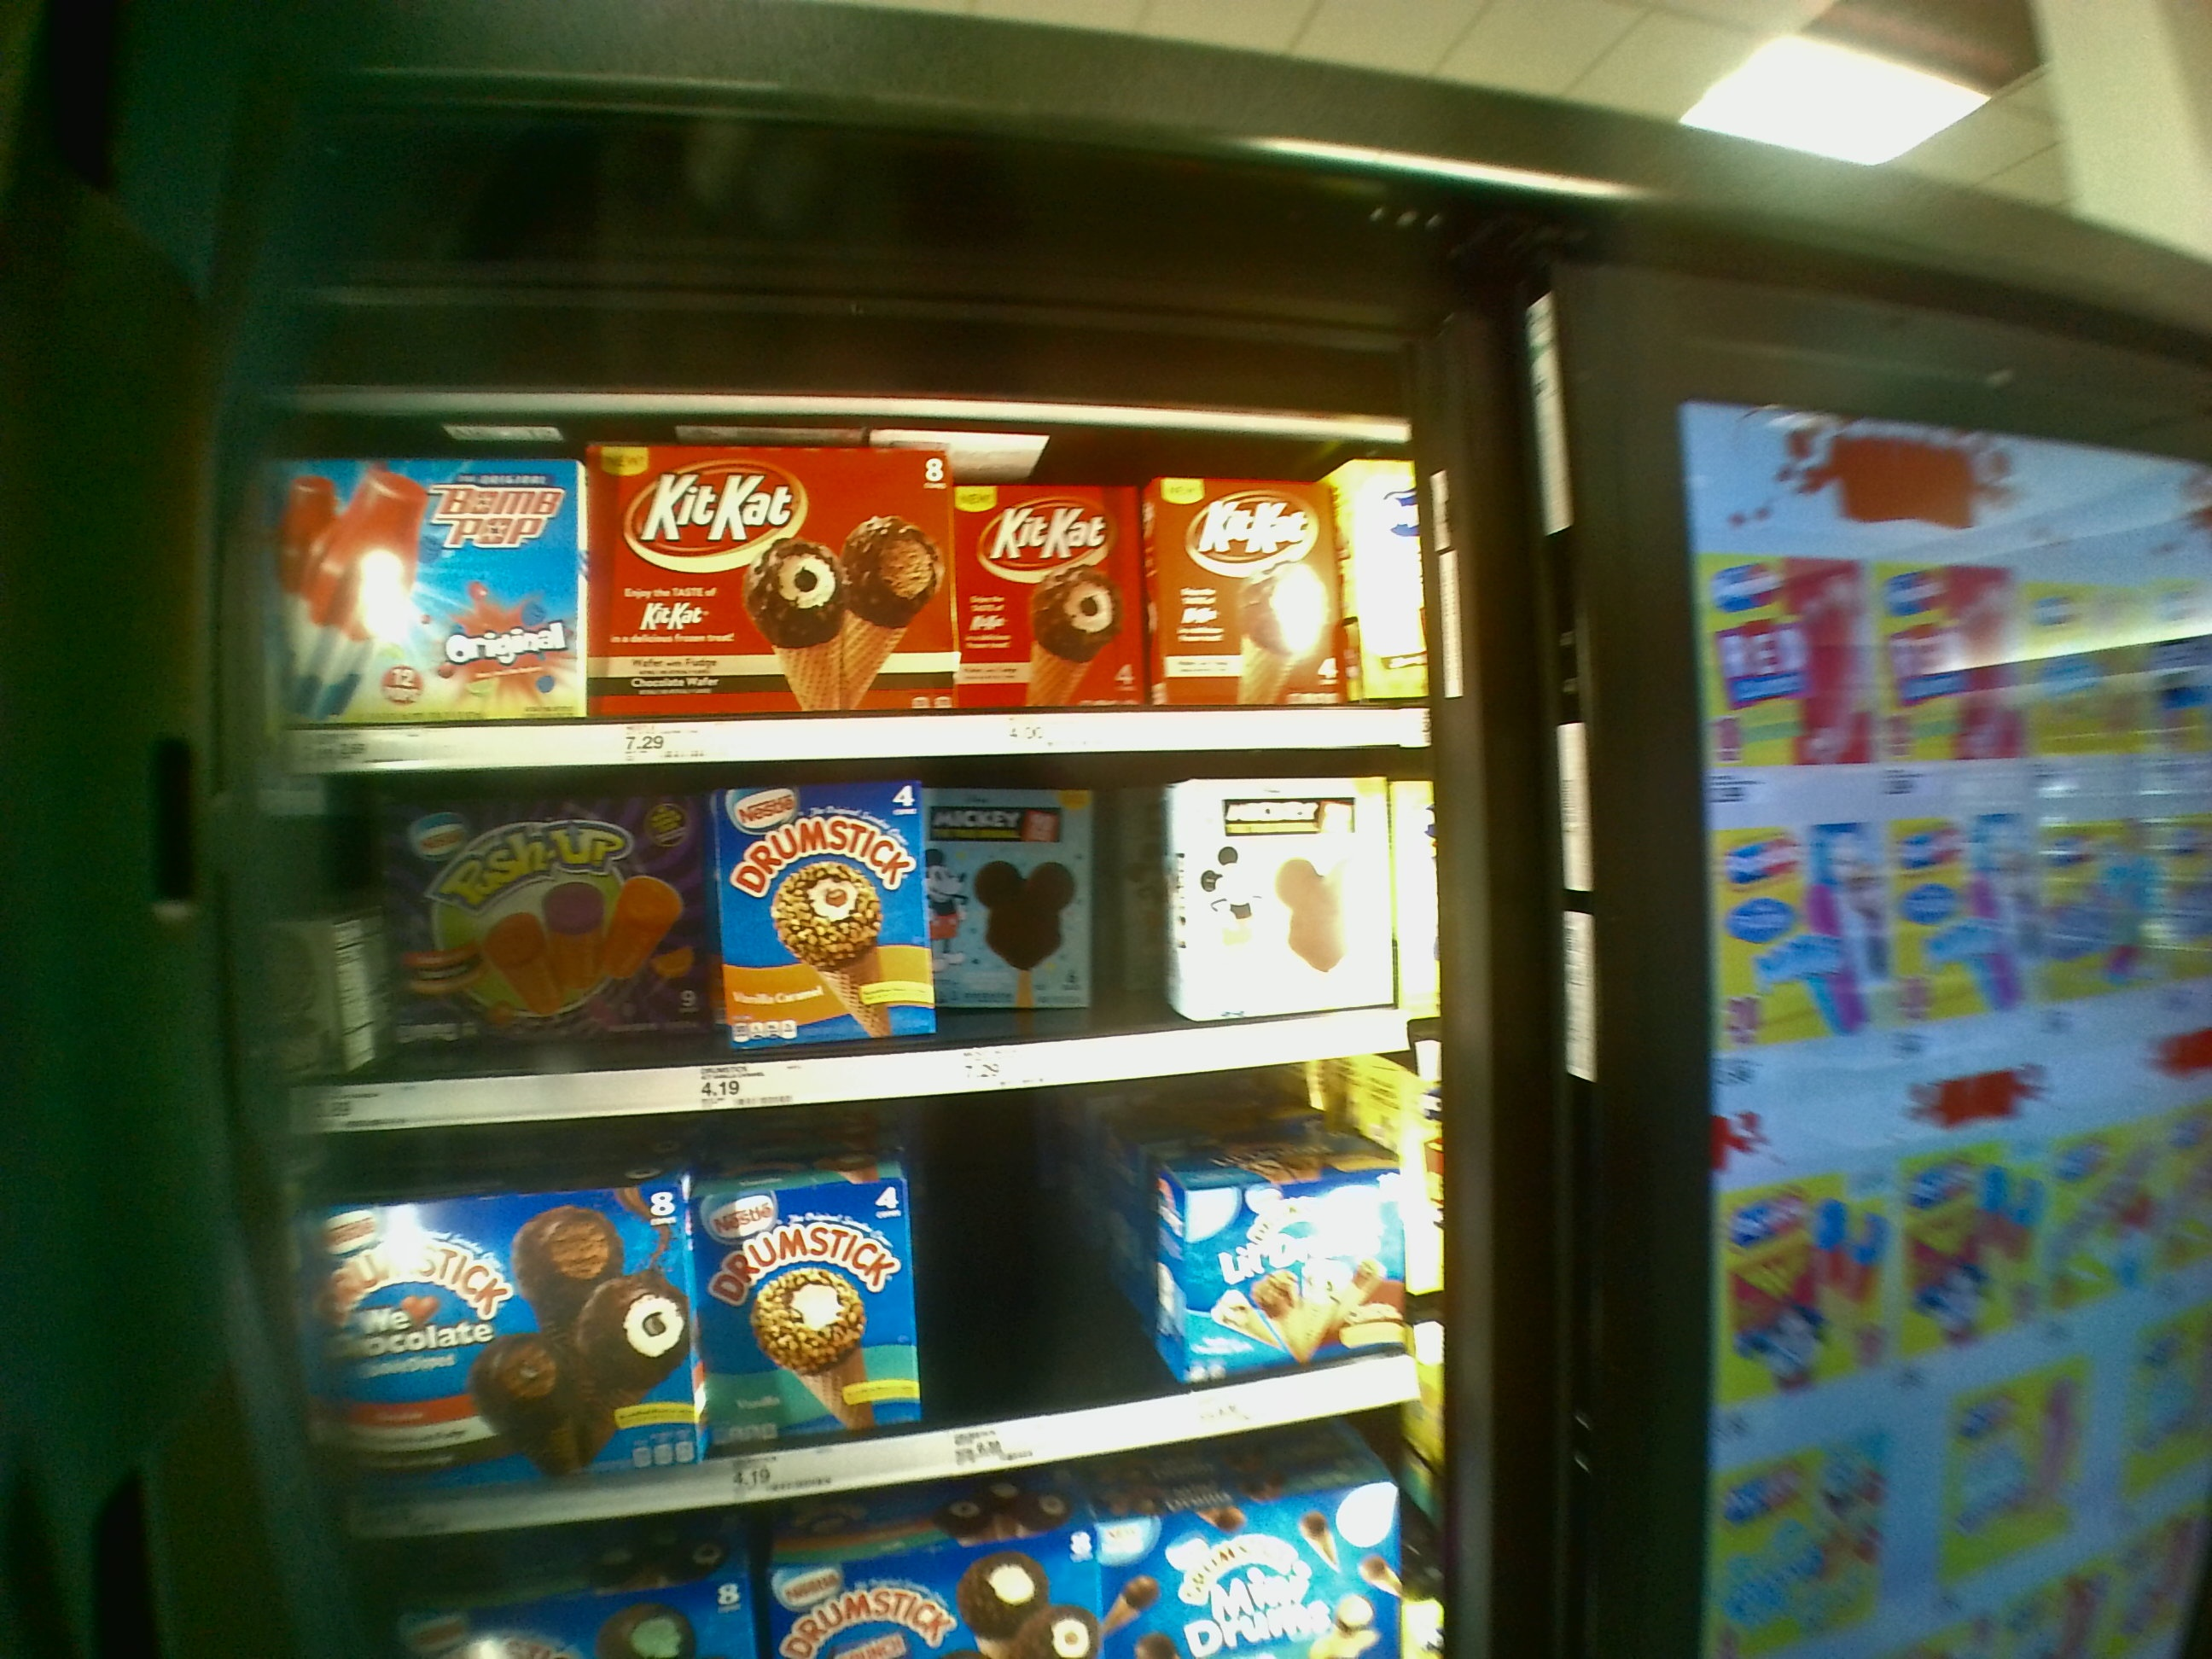shelf: (301, 1122, 1433, 1499), (286, 746, 1437, 1108), (266, 404, 1423, 760)
